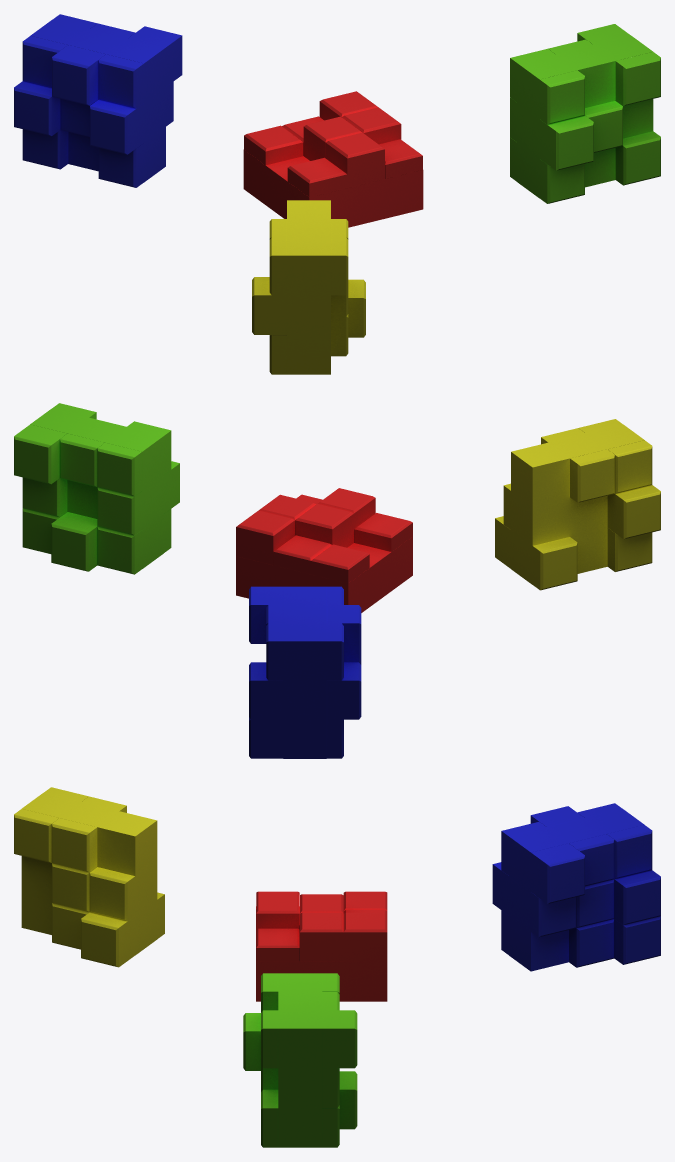
Rendered from stage_1_lightmap.obj.
3 views of the same model, one above another, from view 1: azimuth 30°, elevation 25°; view 2: azimuth 150°, elevation 25°; view 3: azimuth 270°, elevation 25° (orthographic).
Parts seen in each view (by area): view 1: stage_1.002; view 2: stage_1.002; view 3: stage_1.002.
Part boxes in pixels (x1,y1,x2,y2): stage_1.002: (14,14,660,374); stage_1.002: (14,403,660,758); stage_1.002: (14,787,660,1147).
Bounding box in the file's own units: 67.1 × 15 × 73.87.
1 material, 1 textured.
